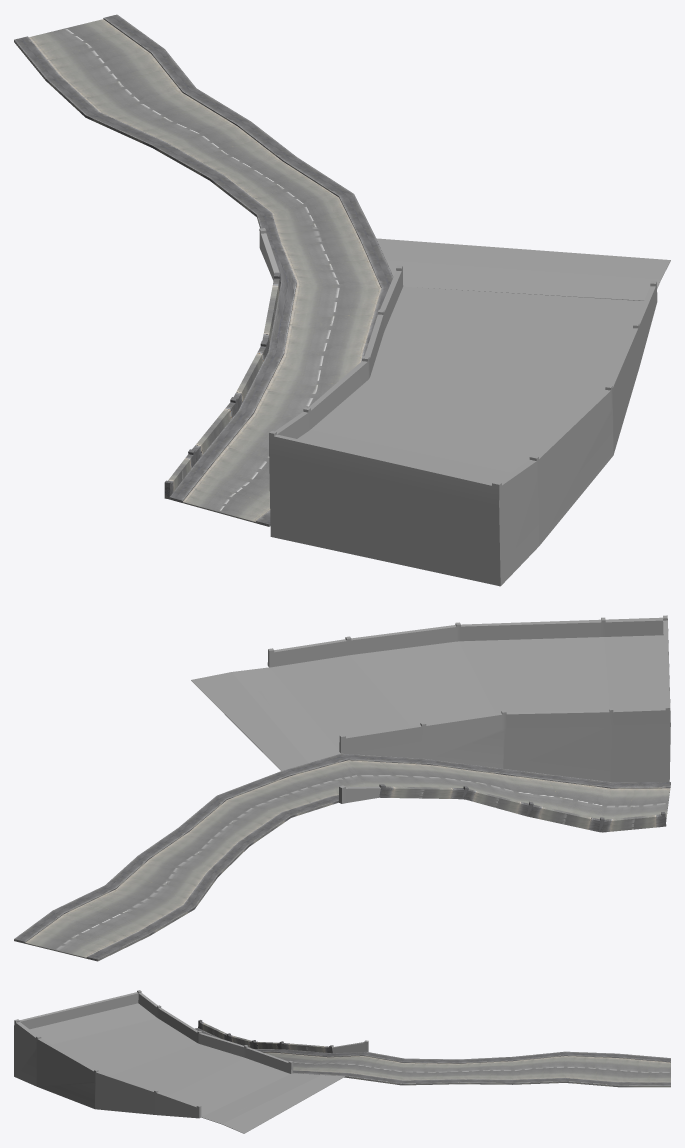
File: road-curved-with-plaza-and-pieces.fbx
3 renders of one model, top to bottom at view 1: azimuth 30°, elevation 25°; view 2: azimuth 150°, elevation 25°; view 3: azimuth 270°, elevation 25°, orthographic. The views are drawn at different scales.
Visible parts, largest first — view 1: plaza_platform, curved_road1, grass_garden, wall; view 2: plaza_platform, curved_road1, grass_garden, wall; view 3: plaza_platform, curved_road1, grass_garden, wall.
Boxes of the visible parts, box(x1,y1,x2,y2) form: plaza_platform: box(269, 265, 657, 586); curved_road1: box(14, 14, 393, 526); grass_garden: box(376, 238, 670, 300); wall: box(164, 228, 280, 499); plaza_platform: box(267, 615, 670, 782); curved_road1: box(14, 753, 670, 961); grass_garden: box(191, 667, 340, 770); wall: box(338, 784, 666, 832); plaza_platform: box(14, 990, 293, 1118); curved_road1: box(195, 1028, 670, 1087); grass_garden: box(201, 1073, 344, 1133); wall: box(198, 1020, 368, 1053).
Bounding box in the file's own units: 47.04 × 8.95 × 88.64.
